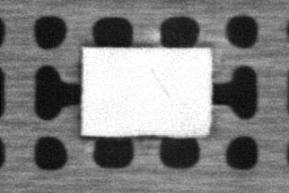DIE_CRACK: (152, 67, 173, 100)
